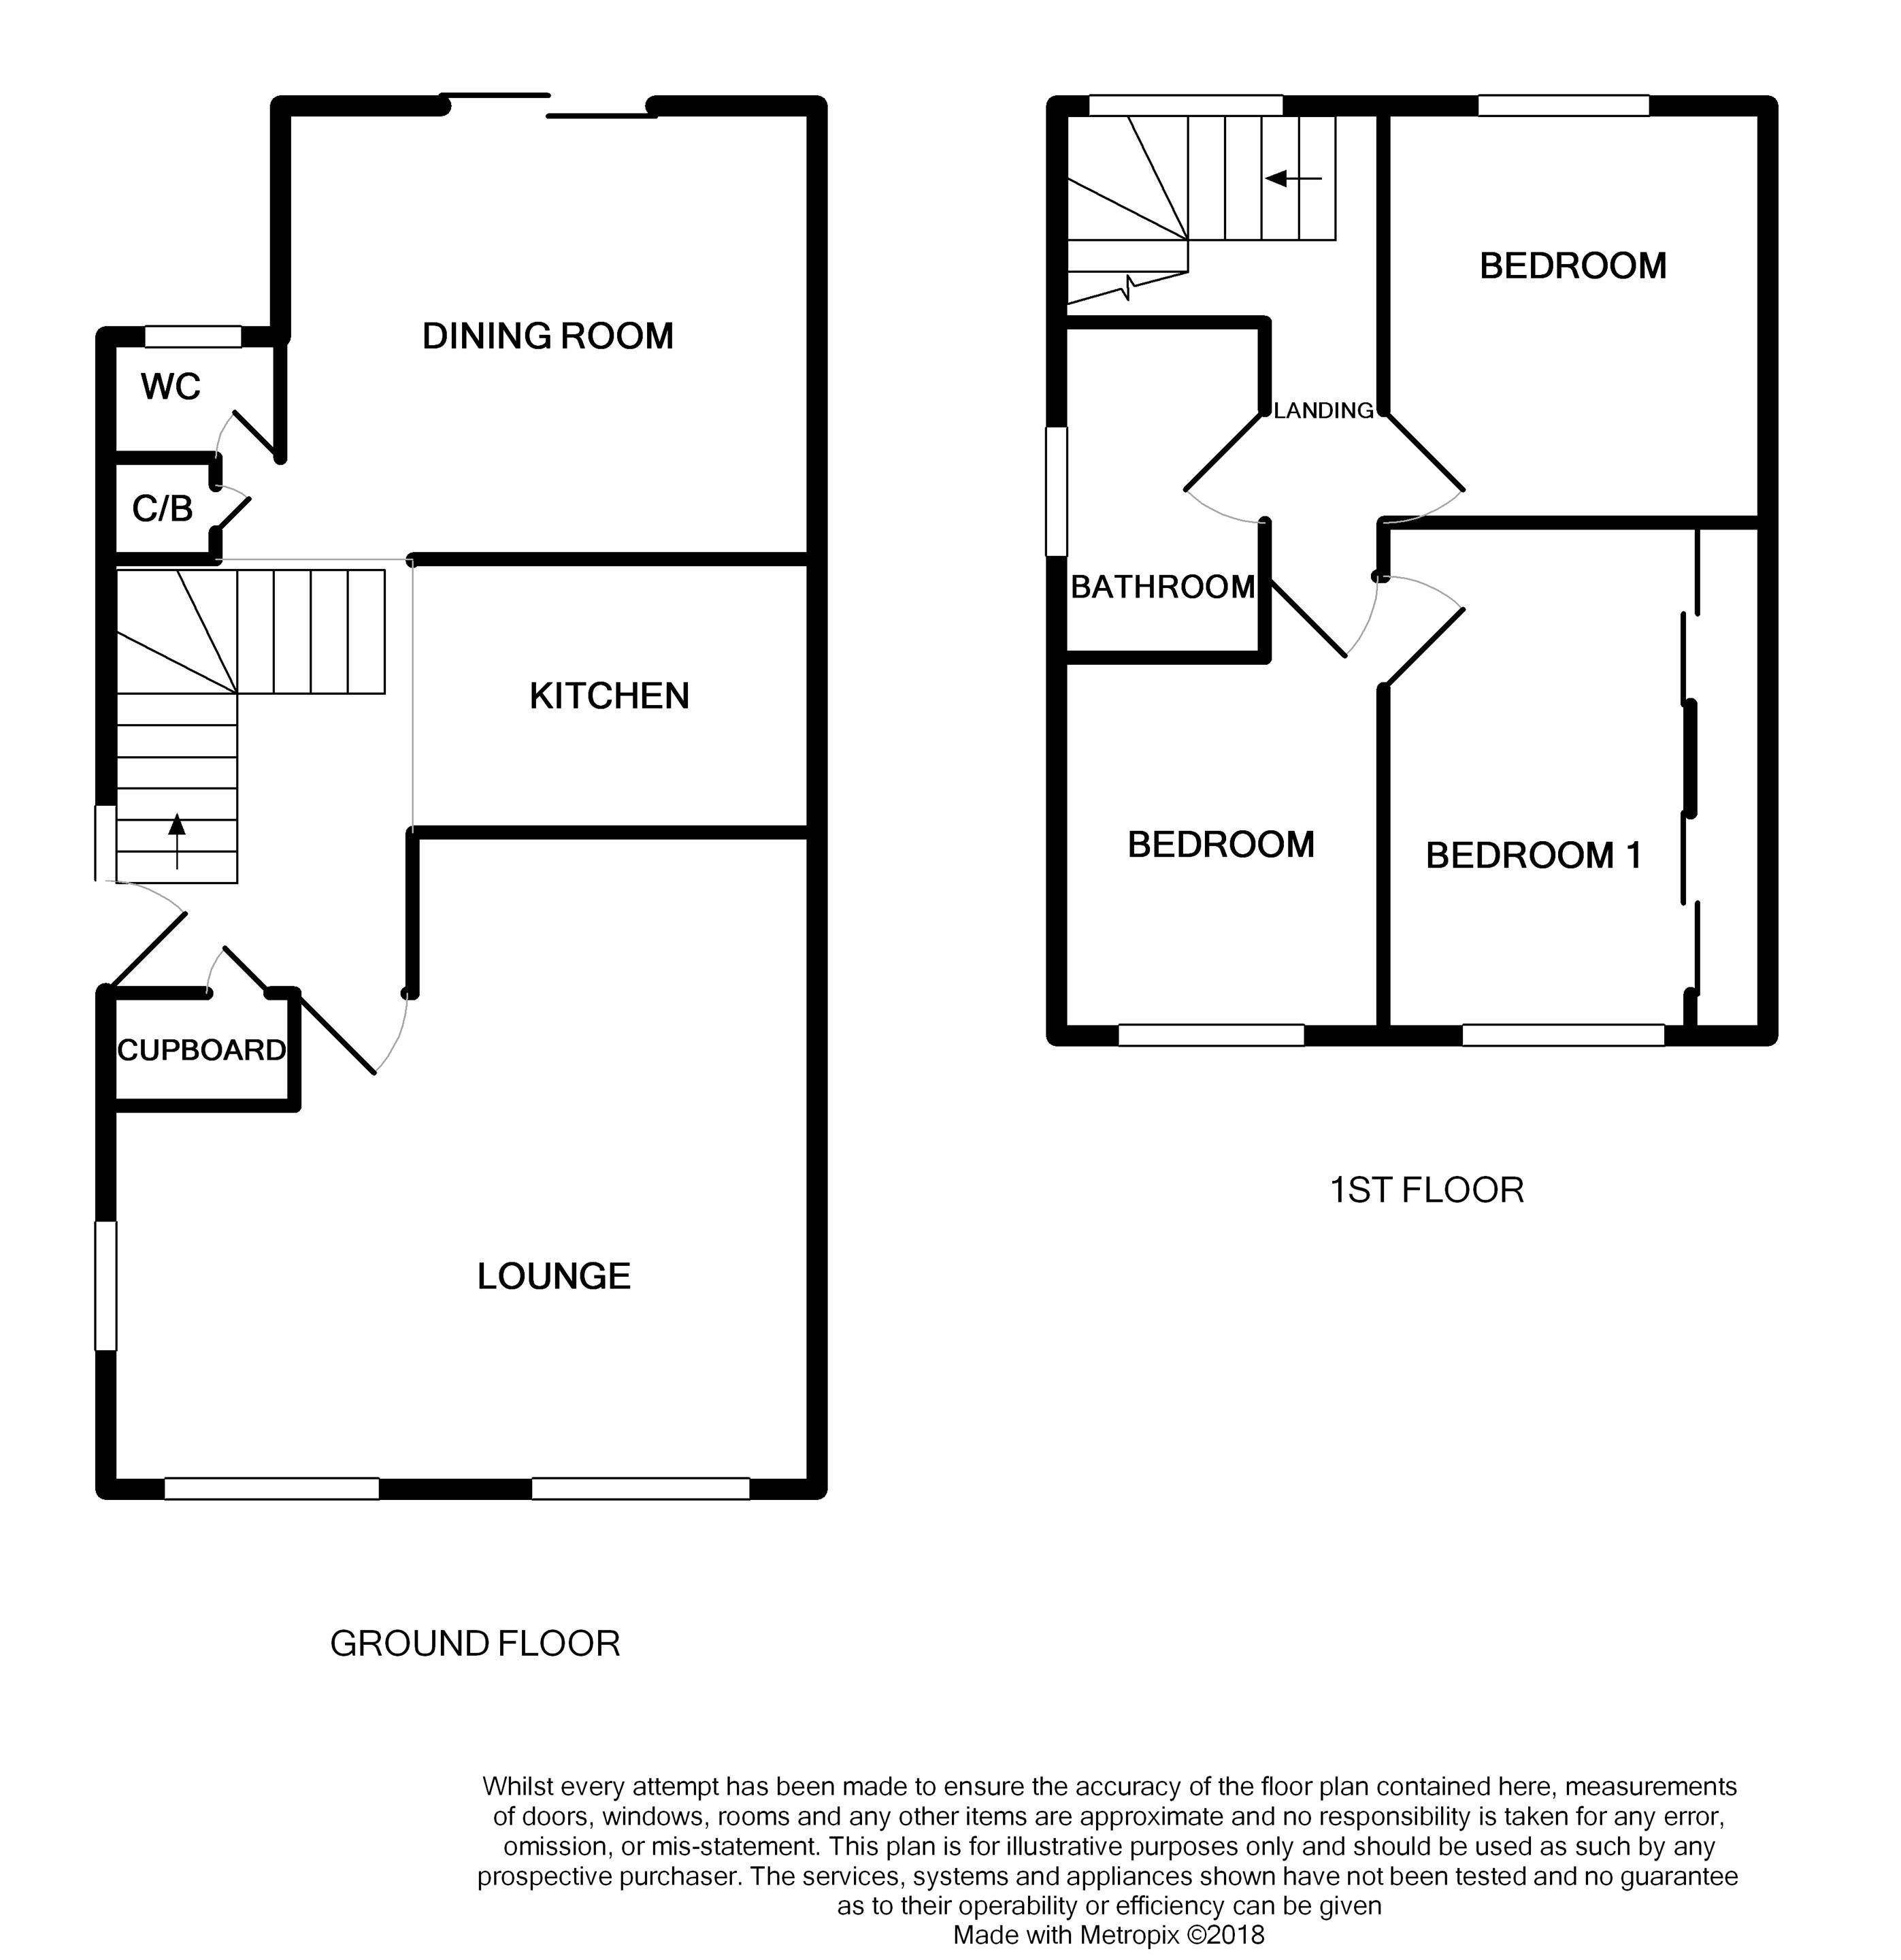room: (93, 831, 825, 1502), (268, 96, 831, 565), (1378, 518, 1773, 1040), (1385, 94, 1772, 527), (1049, 669, 1378, 1050), (414, 558, 825, 835), (1051, 315, 1270, 662)
